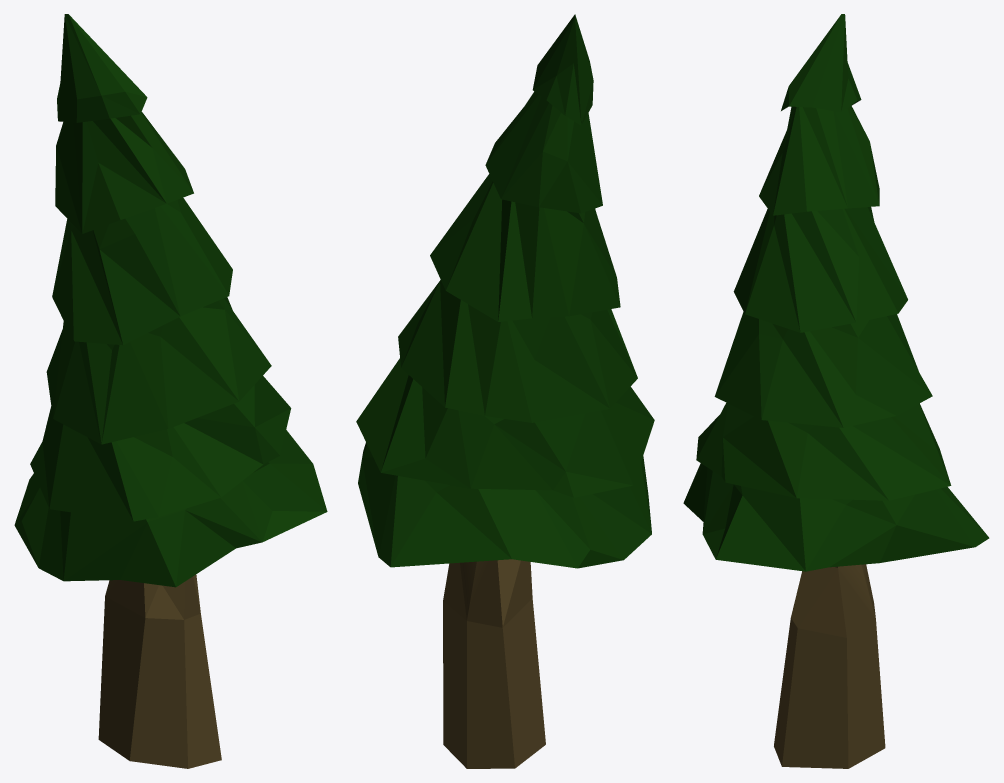
File: Tree.FBX
The picture shows the model from 3 angles, left to right: view 1: azimuth 30°, elevation 25°; view 2: azimuth 150°, elevation 25°; view 3: azimuth 270°, elevation 25°; orthographic projection. The views are drawn at different scales.
Parts seen in each view (by area): view 1: default; view 2: default; view 3: default.
Part boxes in pixels (bbox=[...]): default: bbox=[14, 14, 327, 768]; default: bbox=[356, 14, 654, 768]; default: bbox=[683, 14, 989, 768].
Bounding box in the file's own units: 87.34 × 236 × 93.79.
